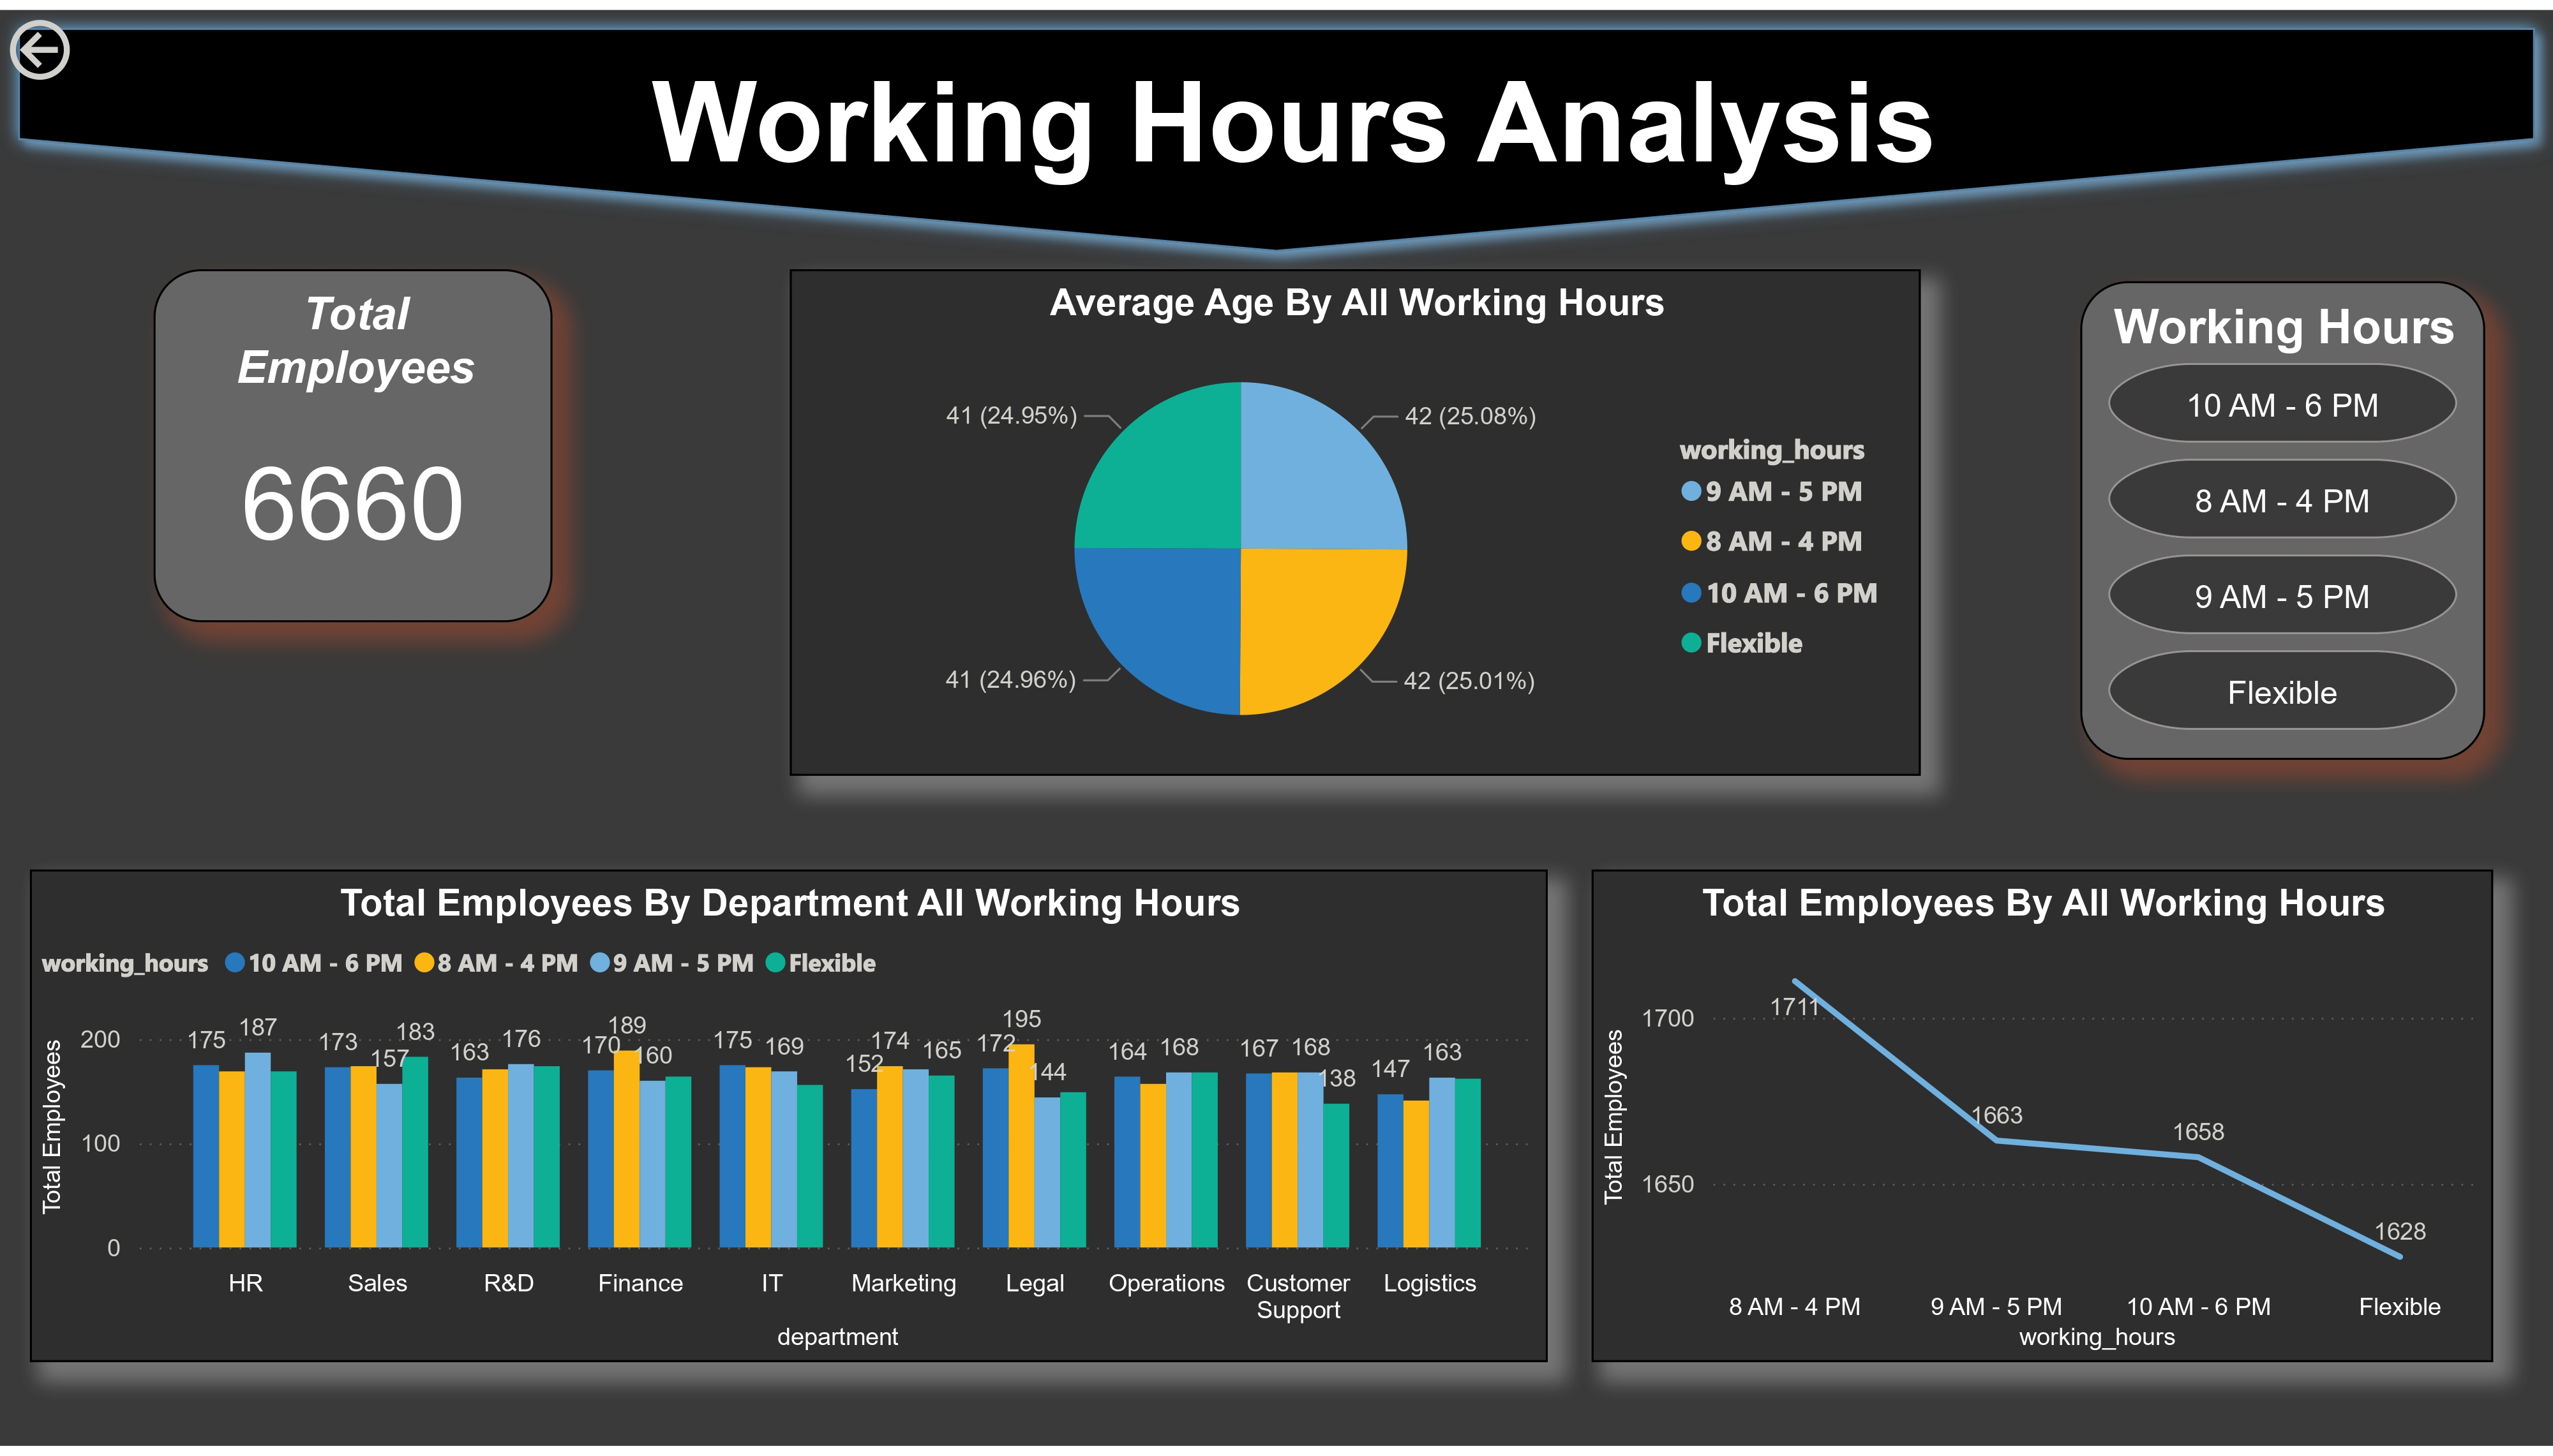

What the dashboard file says about the page in this screenshot:
{"tool":"powerbi","page":{"name":"Working Hours","canvas":[1280,720],"ordinal":4},"visuals":[{"type":"shape","box":[0,0,1280,130.3],"z":0},{"type":"lineChart","fields":{"Category":["working_hours.working_hours"],"Y":["employee_dataset.TotalEmployees"]},"box":[797.9,430.6,451.8,247],"z":1000},{"type":"advancedSlicerVisual","title":"Working Hours","fields":{"Values":["working_hours.working_hours"]},"box":[1042.9,136.2,203.1,239.8],"z":2000},{"type":"card","title":"Total Employees","fields":{"Values":["employee_dataset.TotalEmployees"]},"box":[77.3,129.7,200.4,176.9],"z":3000},{"type":"textbox","box":[289.9,19.4,717.8,90.5],"z":4000},{"type":"pieChart","fields":{"Category":["working_hours.working_hours"],"Y":["employee_dataset.AvgAge"]},"box":[395.7,129.7,567.3,254.2],"z":5000},{"type":"clusteredColumnChart","fields":{"Category":["department.department"],"Y":["employee_dataset.TotalEmployees"],"Series":["working_hours.working_hours"]},"box":[14.5,430.6,760.9,247],"z":6000},{"type":"actionButton","box":[0,0,100,40],"z":6001}]}

Visuals, with their boxes in screenshot pixels (x1, y1, x2, y2), scaled from the page's 1280x720 canvas onto the 2553x1456 screenshot:
shape: BBox(0, 0, 2552, 264)
lineChart - working_hours.working_hours x employee_dataset.TotalEmployees: BBox(1591, 871, 2492, 1371)
"Working Hours" advancedSlicerVisual: BBox(2080, 276, 2485, 761)
"Total Employees" card: BBox(154, 262, 554, 620)
textbox: BBox(578, 39, 2010, 222)
pieChart - working_hours.working_hours x employee_dataset.AvgAge: BBox(790, 262, 1920, 776)
clusteredColumnChart - department.department x employee_dataset.TotalEmployees: BBox(29, 871, 1546, 1371)
actionButton: BBox(0, 0, 199, 81)
